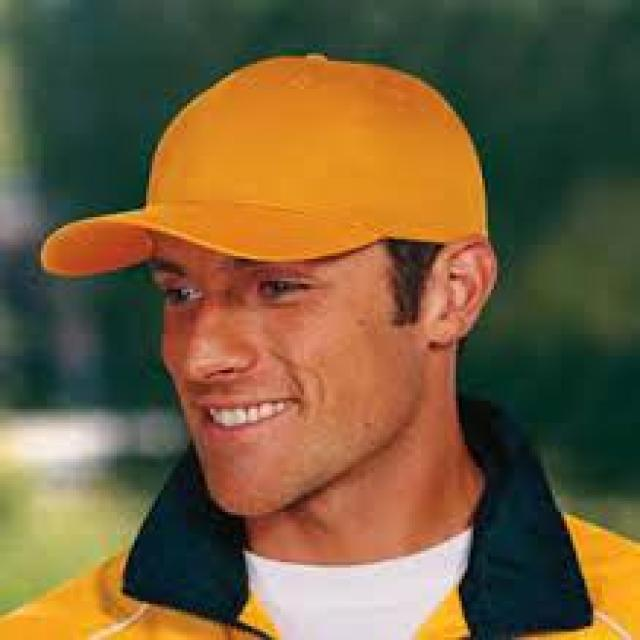3_gorra: (38, 53, 491, 281)
